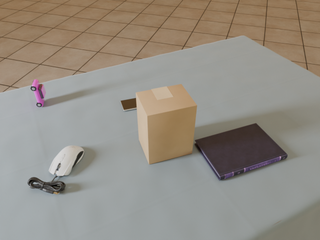book: (195, 123, 287, 180)
box: (136, 84, 197, 164)
mouse: (49, 146, 84, 179)
phone: (121, 98, 137, 111)
toy_car: (31, 80, 46, 107)
